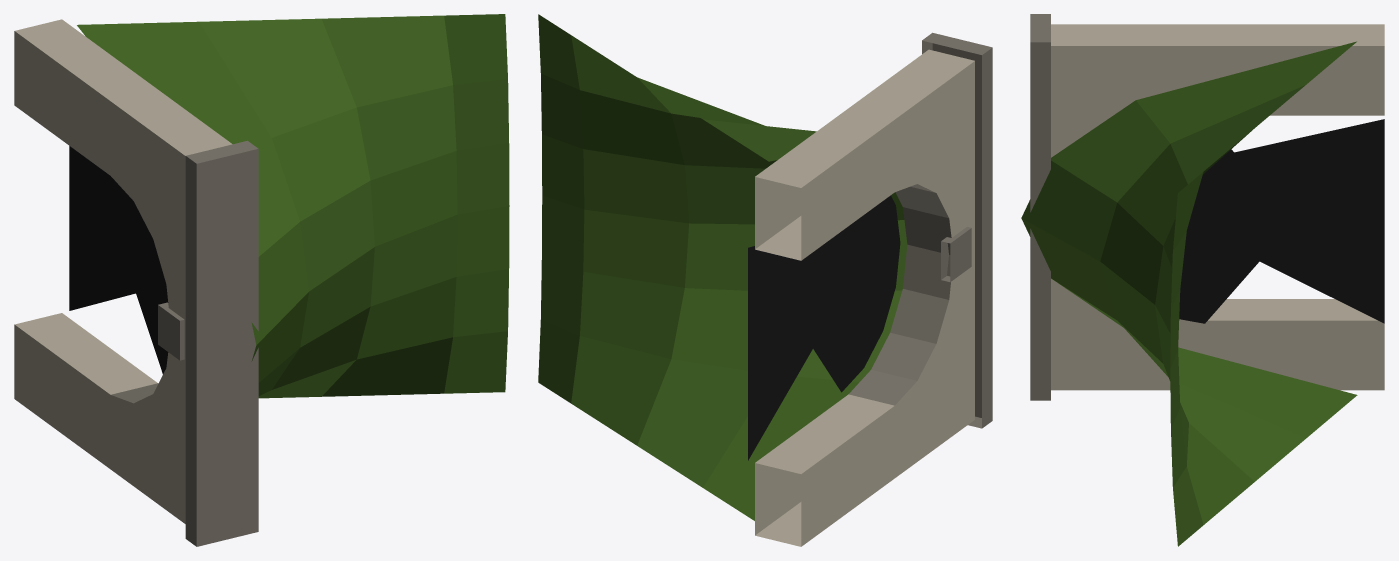
3 views of the same model, side by side, from view 1: azimuth 30°, elevation 25°; view 2: azimuth 150°, elevation 25°; view 3: azimuth 270°, elevation 25° (orthographic). The views are drawn at different scales.
Parts seen in each view (by area): view 1: tunnel_rail_default; view 2: tunnel_rail_default; view 3: tunnel_rail_default.
Part boxes in pixels (x1=…): tunnel_rail_default: x1=14, y1=14, x2=509, y2=546; tunnel_rail_default: x1=538, y1=14, x2=992, y2=546; tunnel_rail_default: x1=1021, y1=14, x2=1384, y2=546.
Size of the model in its own units: 16.3 by 15.4 by 14.15.
